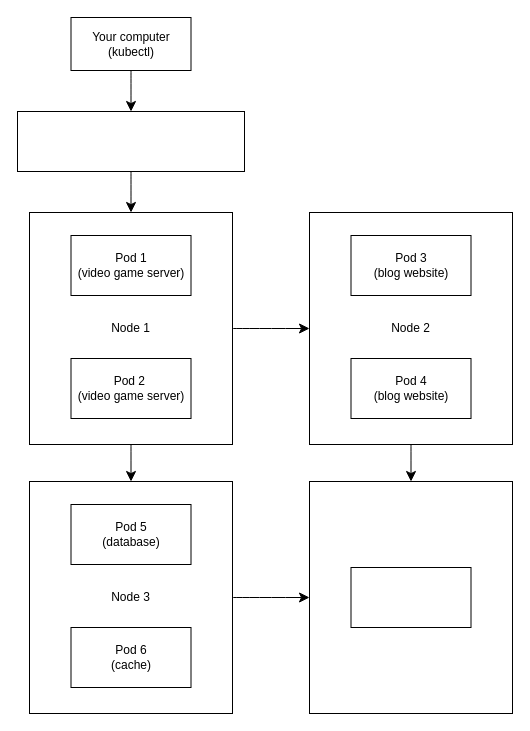
This 530x731 diagram has some shape labels left out. The shapes that lost their labels are listed below. From the top down, each one's centre as x and y in pixels, then its label:
At [130,141]: "Kubernetes API Server (Control Plane)".
At [410,597]: "Services".
